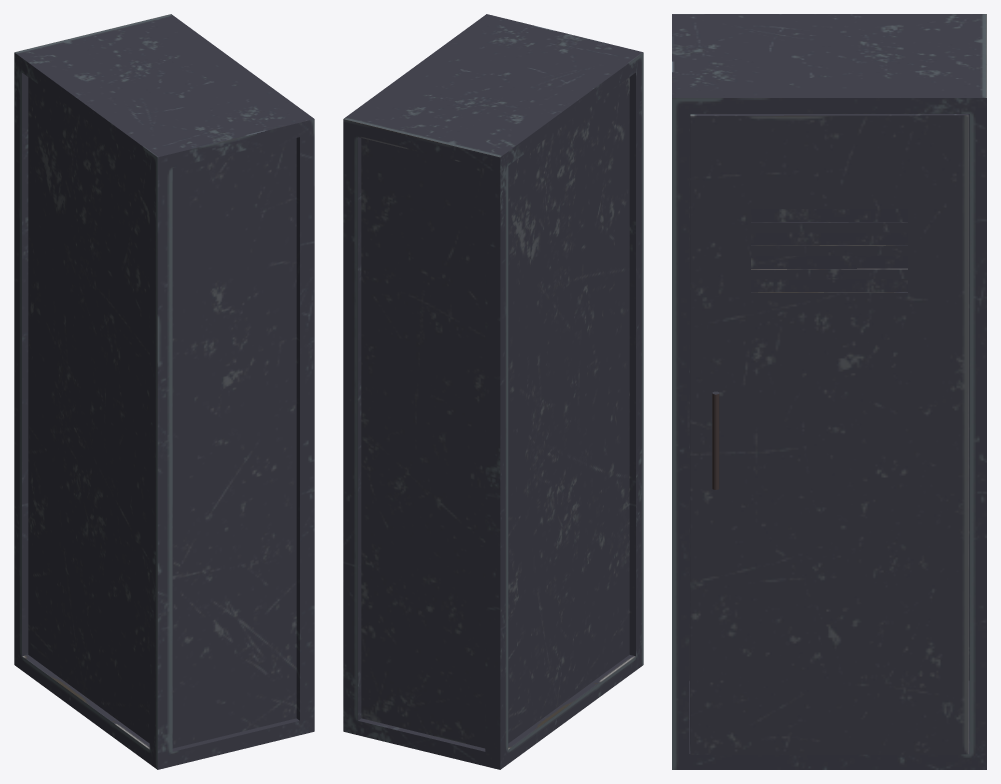
Rendered from Locker (rough texture).gltf.
3 renders of one model, left to right at view 1: azimuth 30°, elevation 25°; view 2: azimuth 150°, elevation 25°; view 3: azimuth 270°, elevation 25°, orthographic. The views are drawn at different scales.
Parts seen in each view (by area): view 1: Cube; view 2: Cube; view 3: Cube.001, Cube.
Boxes of the visible parts, x1,y1,x2,y2 form: Cube: (14, 14, 314, 769); Cube: (343, 14, 643, 769); Cube.001: (690, 114, 968, 754); Cube: (672, 14, 986, 769).
Size of the model in its own units: 2.2 by 7.45 by 3.17.
Materials: 1 (1 with a texture image).
